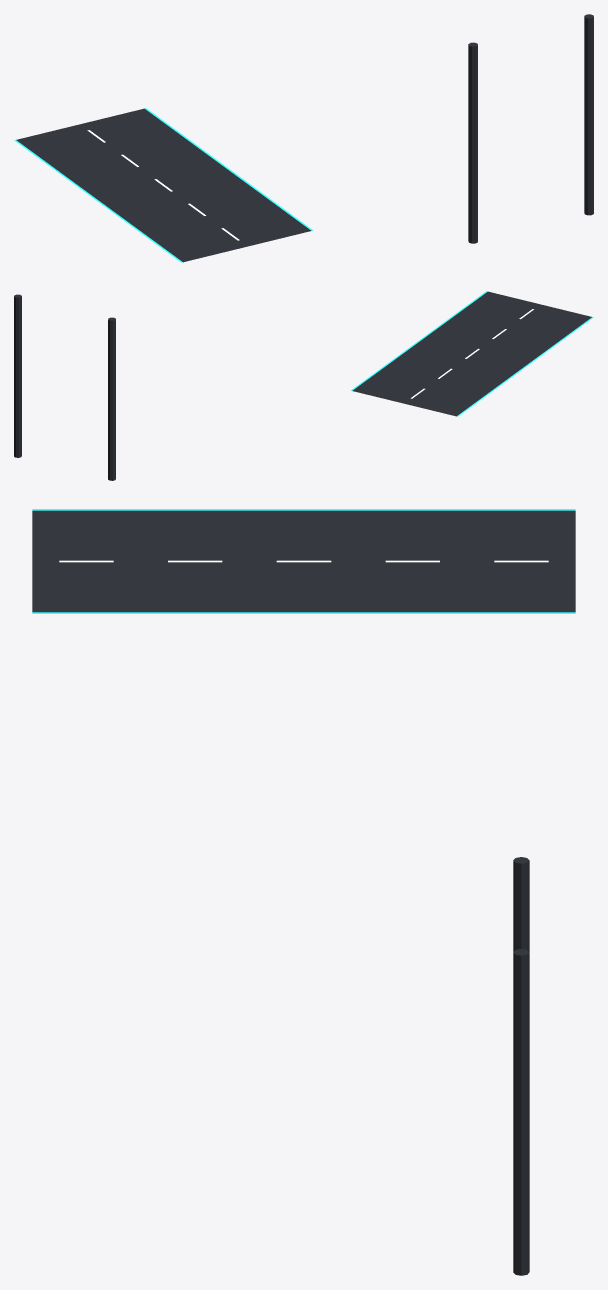
File: road_straight.glb
3 renders of one model, top to bottom at view 1: azimuth 30°, elevation 25°; view 2: azimuth 150°, elevation 25°; view 3: azimuth 270°, elevation 25°, orthographic. The views are drawn at different scales.
Visible parts, largest first — view 1: ENV_ROAD_STRAIGHT_01; view 2: ENV_ROAD_STRAIGHT_01; view 3: ENV_ROAD_STRAIGHT_01.
Boxes of the visible parts, <box> form: ENV_ROAD_STRAIGHT_01: <box>14,14,593,262</box>; ENV_ROAD_STRAIGHT_01: <box>14,291,593,480</box>; ENV_ROAD_STRAIGHT_01: <box>32,509,575,1275</box>.
Size of the model in its own units: 77.72 by 26.02 by 40.
